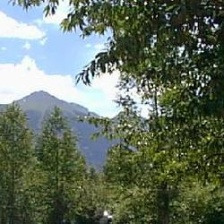neutral: (1, 30, 224, 222)
